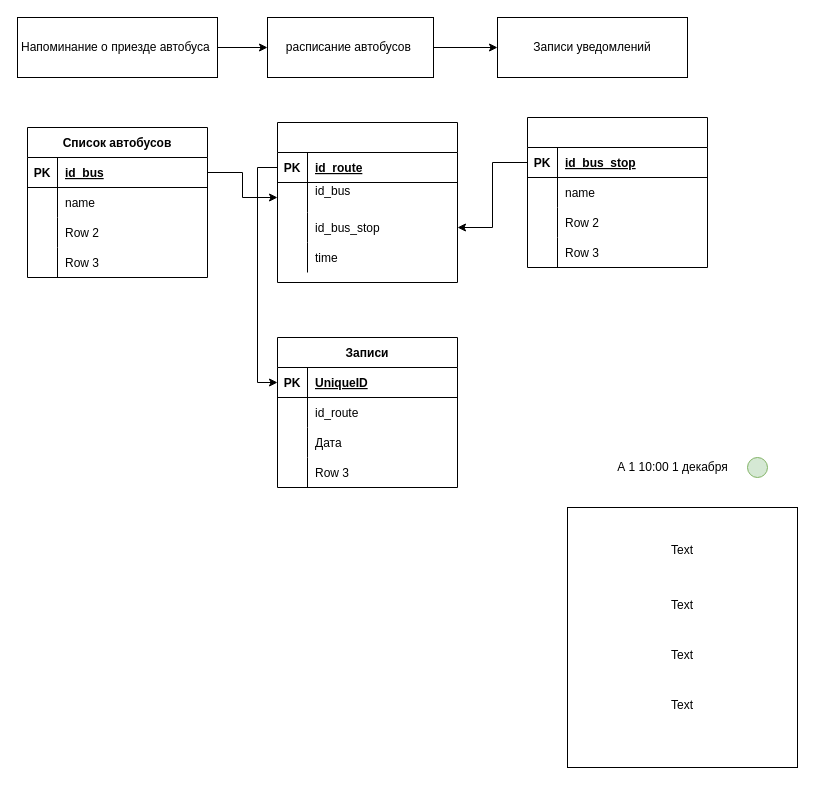
Image size: 815x785. Some labels were removed from this diagram. Each missing label, with the box of its shape:
Список маршрутов: (276, 122, 458, 282)
Список остановок: (526, 116, 708, 268)
